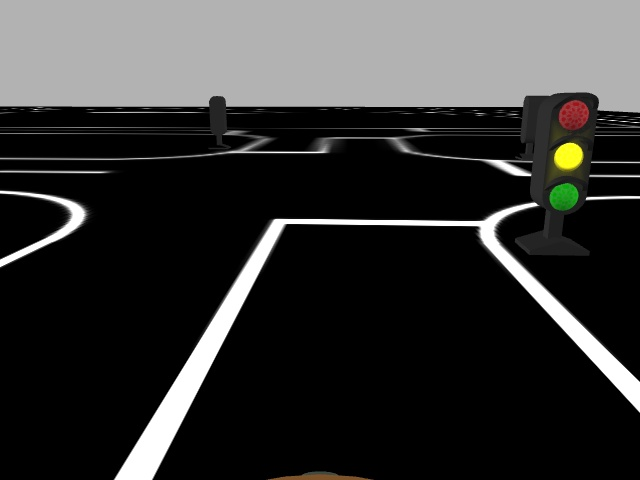yellow_light: (537, 92, 599, 215)
